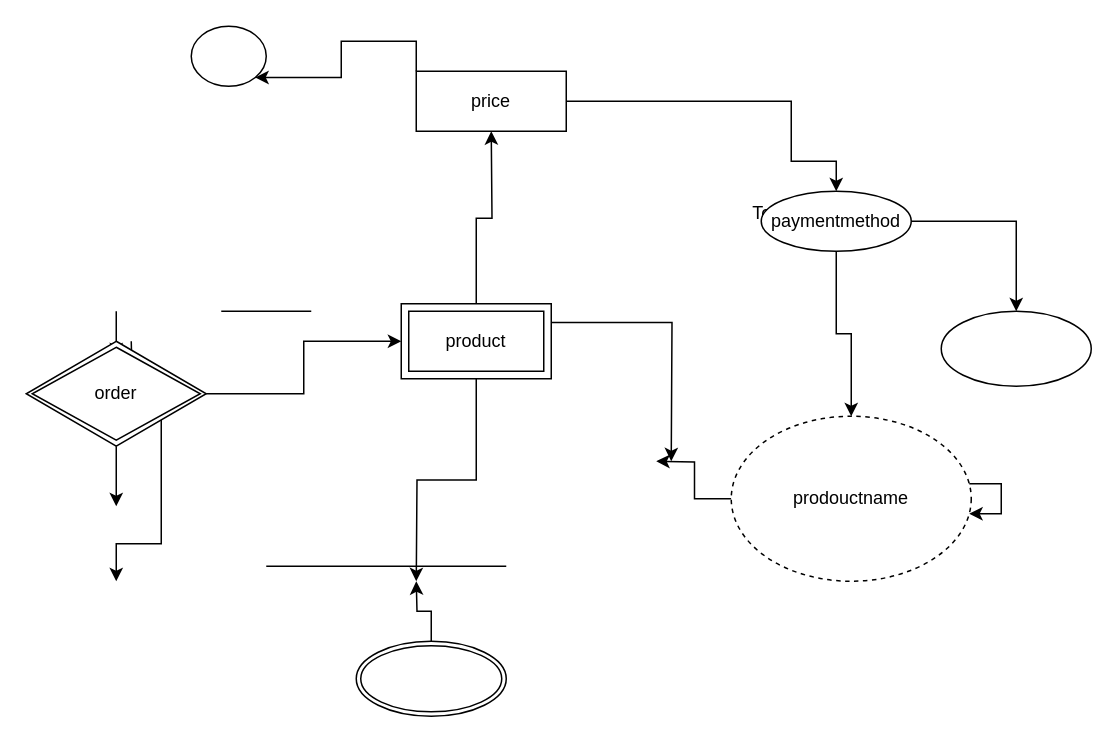
The diagram is 1118 pixels wide and 743 high, and some of its shapes have lost their labels. Each missing label, with the centre of its shape:
"cash" belongs at [1015,348].
"countity" belongs at [430,678].
"productid" belongs at [228,55].
